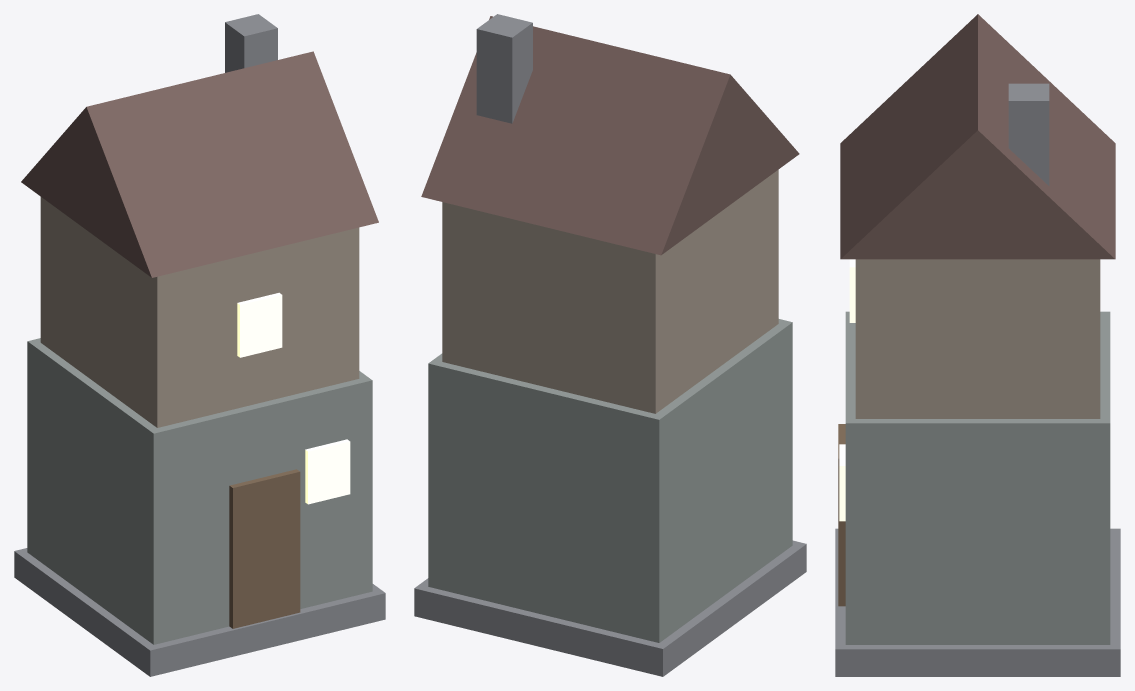
Rendered from cottage_tall.glb.
The picture shows the model from 3 angles, left to right: view 1: azimuth 30°, elevation 25°; view 2: azimuth 150°, elevation 25°; view 3: azimuth 270°, elevation 25°; orthographic projection. The views are drawn at different scales.
Parts seen in each view (by area): view 1: cottage_tall; view 2: cottage_tall; view 3: cottage_tall.
Boxes of the visible parts, box(x1,y1,x2,y2) form: cottage_tall: box(14, 14, 385, 676); cottage_tall: box(414, 14, 806, 676); cottage_tall: box(835, 14, 1120, 676).
Bounding box in the file's own units: 2.8 × 6.1 × 2.8.
